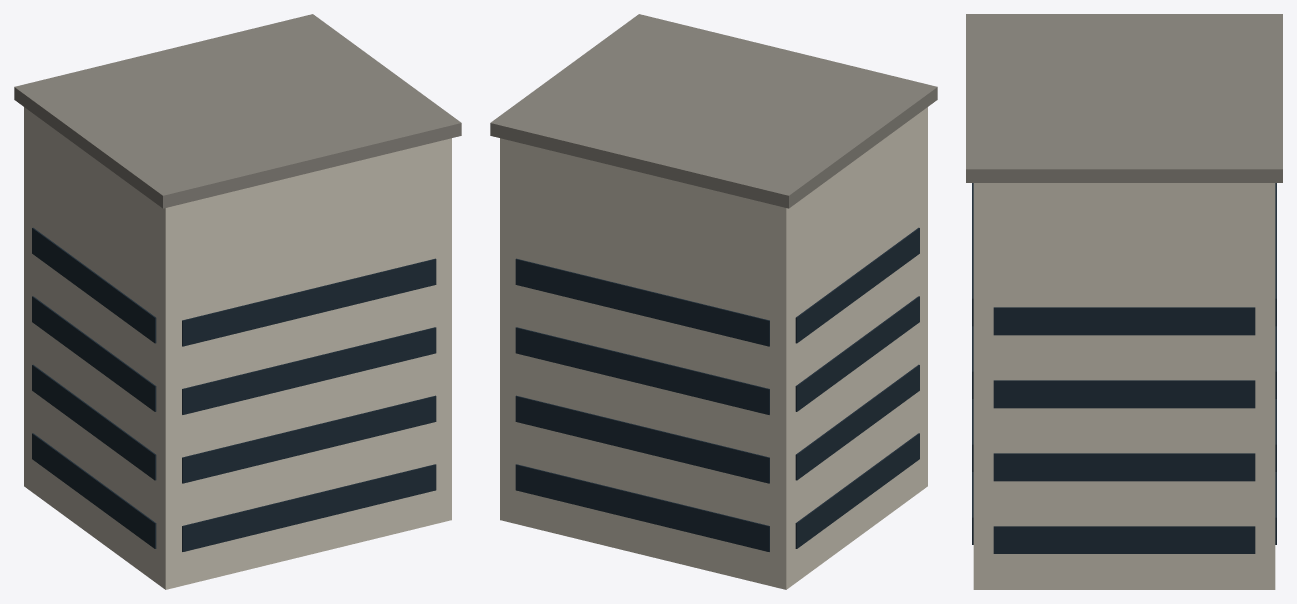
File: Building0.glb
The picture shows the model from 3 angles, left to right: view 1: azimuth 30°, elevation 25°; view 2: azimuth 150°, elevation 25°; view 3: azimuth 270°, elevation 25°; orthographic projection. The views are drawn at different scales.
Visible parts, largest first — view 1: Building0; view 2: Building0; view 3: Building0.
Part boxes in pixels (<box>): Building0: <box>14,14,461,589</box>; Building0: <box>490,14,937,589</box>; Building0: <box>966,14,1282,589</box>.
Size of the model in its own units: 14.6 by 18.6 by 12.6.
